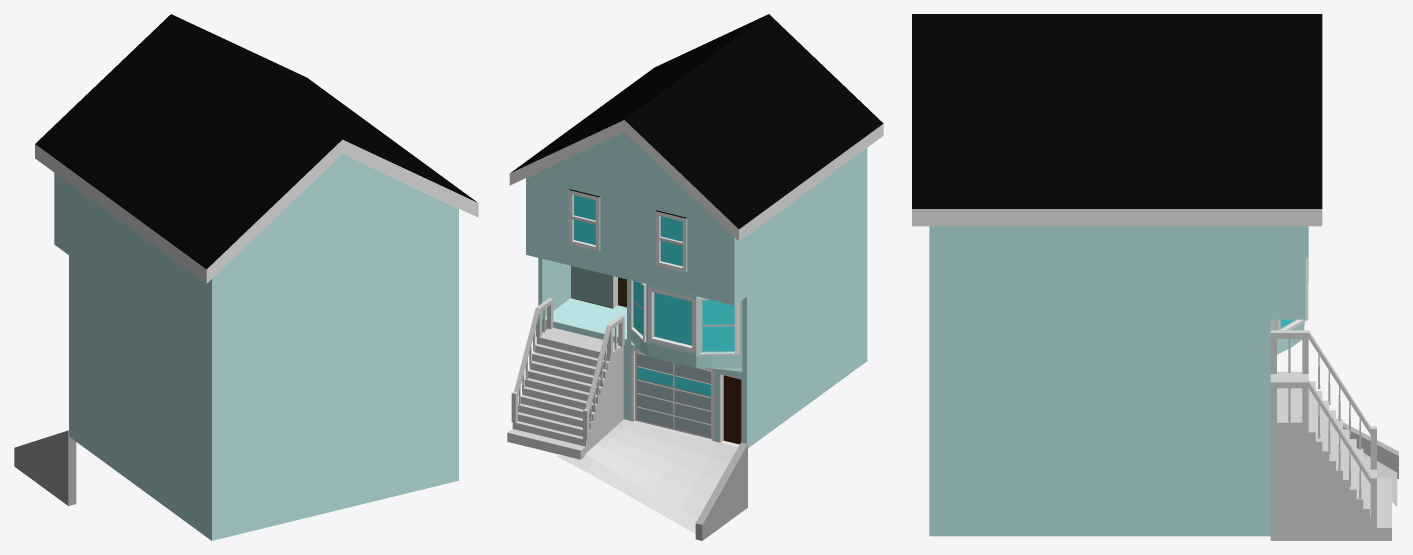
The model's file is sf_house2.glb.
The picture shows the model from 3 angles, left to right: view 1: azimuth 30°, elevation 25°; view 2: azimuth 150°, elevation 25°; view 3: azimuth 270°, elevation 25°; orthographic projection. The views are drawn at different scales.
Parts seen in each view (by area): view 1: building_003.001, Cube.001; view 2: building_003.001, Driveway, Cube.001, walls.001; view 3: building_003.001, Cube.001.
Part boxes in pixels (bbox=[...]): building_003.001: bbox=[35, 14, 478, 540]; Cube.001: bbox=[14, 430, 76, 505]; building_003.001: bbox=[507, 14, 883, 459]; Driveway: bbox=[556, 419, 748, 533]; Cube.001: bbox=[695, 442, 747, 540]; walls.001: bbox=[571, 266, 626, 308]; building_003.001: bbox=[912, 14, 1391, 540]; Cube.001: bbox=[1336, 418, 1398, 478].
Bounding box in the file's own units: 11 × 17.23 × 14.26.
